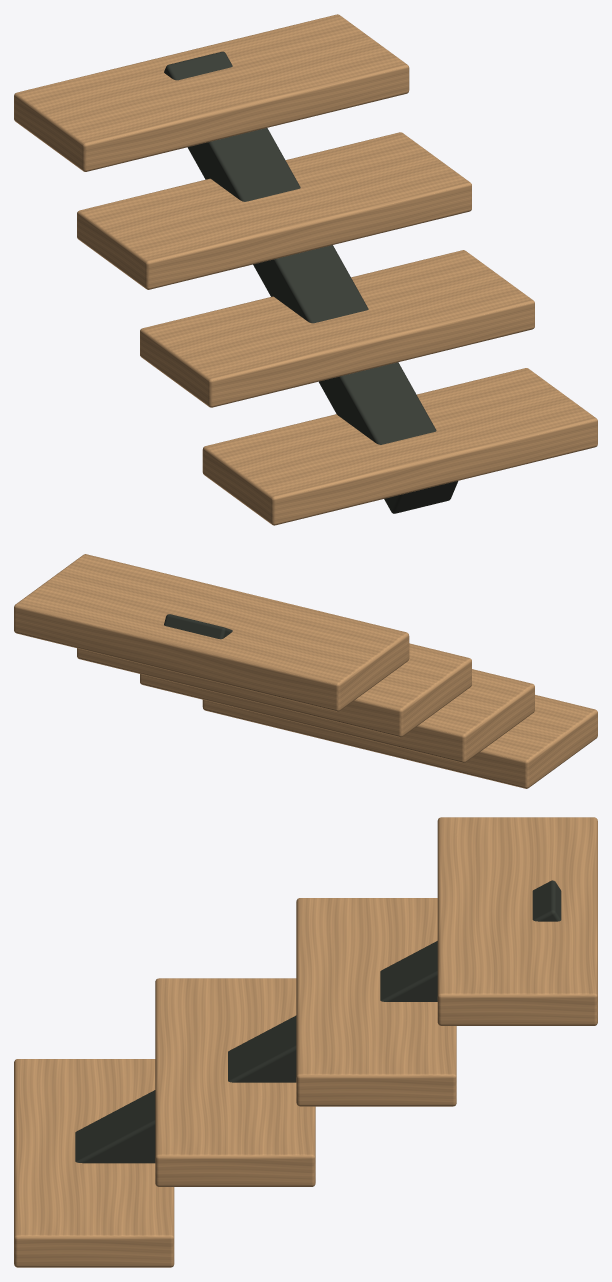
The model's file is reference.glb.
3 views of the same model, one above another, from view 1: azimuth 30°, elevation 25°; view 2: azimuth 150°, elevation 25°; view 3: azimuth 270°, elevation 25° (orthographic). The views are drawn at different scales.
Parts seen in each view (by area): view 1: Floating tread (×4), Central stringer; view 2: Floating tread (×4), Central stringer; view 3: Floating tread (×4), Central stringer.
Boxes of the visible parts, left/top/right/bottom form: Floating tread (×4): left=14, top=14, right=597, bottom=525; Central stringer: left=164, top=51, right=458, bottom=513; Floating tread (×4): left=14, top=554, right=597, bottom=788; Central stringer: left=164, top=614, right=232, bottom=639; Floating tread (×4): left=14, top=817, right=597, bottom=1267; Central stringer: left=75, top=880, right=561, bottom=1163.
Size of the model in its own units: 0.88 by 0.7318 by 1.22.
2 materials, 1 textured.
